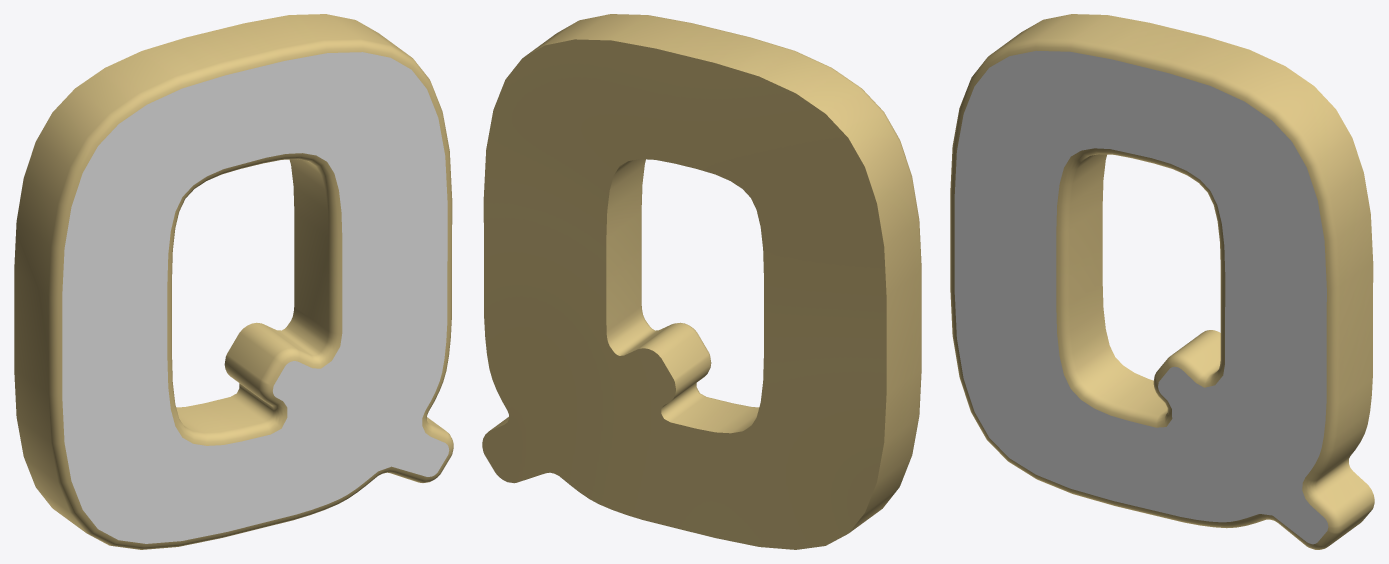
The model's file is LettersLightUp02_Q.FBX.
3 renders of one model, left to right at view 1: azimuth 30°, elevation 25°; view 2: azimuth 150°, elevation 25°; view 3: azimuth 330°, elevation 25°, orthographic. The views are drawn at different scales.
Visible parts, largest first — view 1: LettersLightUp02_Q; view 2: LettersLightUp02_Q; view 3: LettersLightUp02_Q.
Part boxes in pixels (x1,y1,x2,y2): LettersLightUp02_Q: (14,14,453,549); LettersLightUp02_Q: (482,14,921,549); LettersLightUp02_Q: (950,14,1374,549).
Size of what is drawn, in the model's own units: 0.5414 by 0.6077 by 0.0912.
